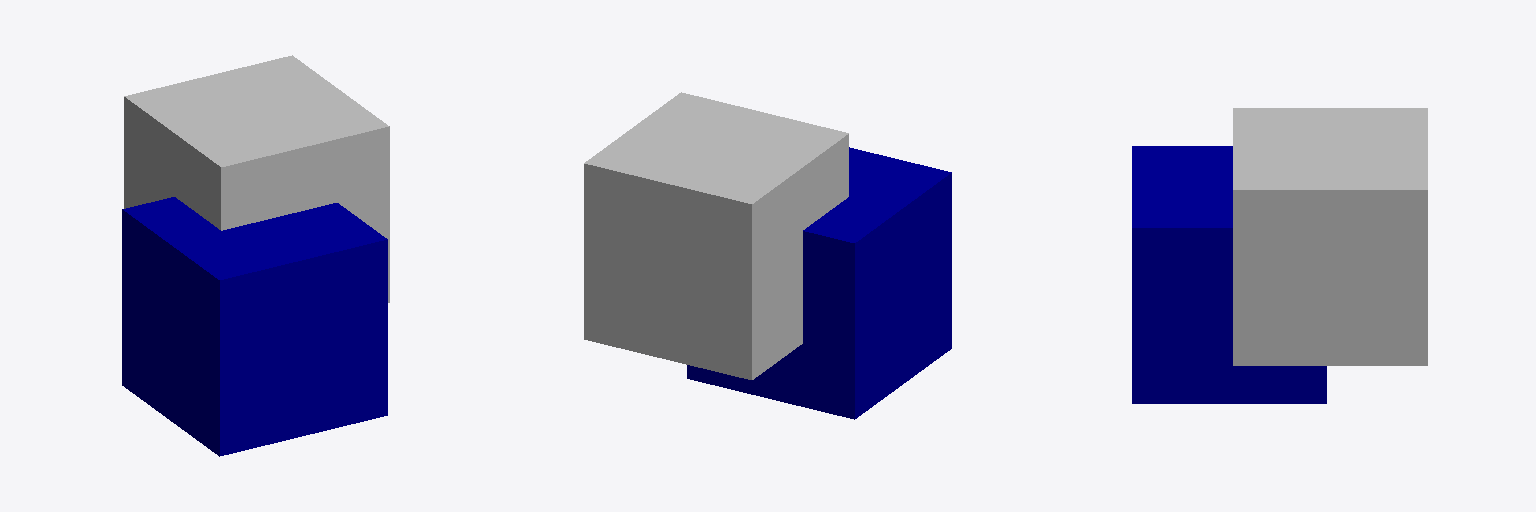
File: two_cubes.obj
The picture shows the model from 3 angles: view 1: azimuth 30°, elevation 25°; view 2: azimuth 150°, elevation 25°; view 3: azimuth 270°, elevation 25°; orthographic projection.
Parts seen in each view (by area): view 1: Cube, Cube.001; view 2: Cube.001, Cube; view 3: Cube.001, Cube.
Part boxes in pixels (x1,y1,x2,y2): Cube: (122,197,387,456); Cube.001: (124,55,389,302); Cube.001: (584,92,848,379); Cube: (687,147,951,419); Cube.001: (1233,108,1427,365); Cube: (1132,146,1326,403).
Bounding box in the file's own units: 2.62 × 2.72 × 3.04.